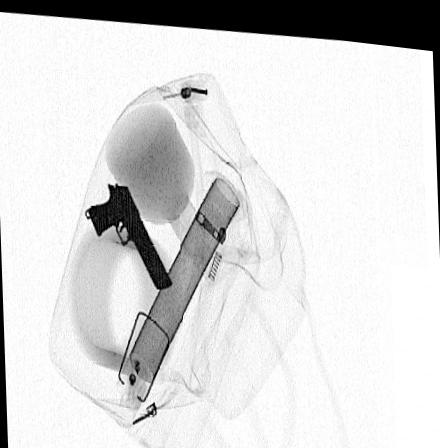Gun: (84, 179, 169, 289)
